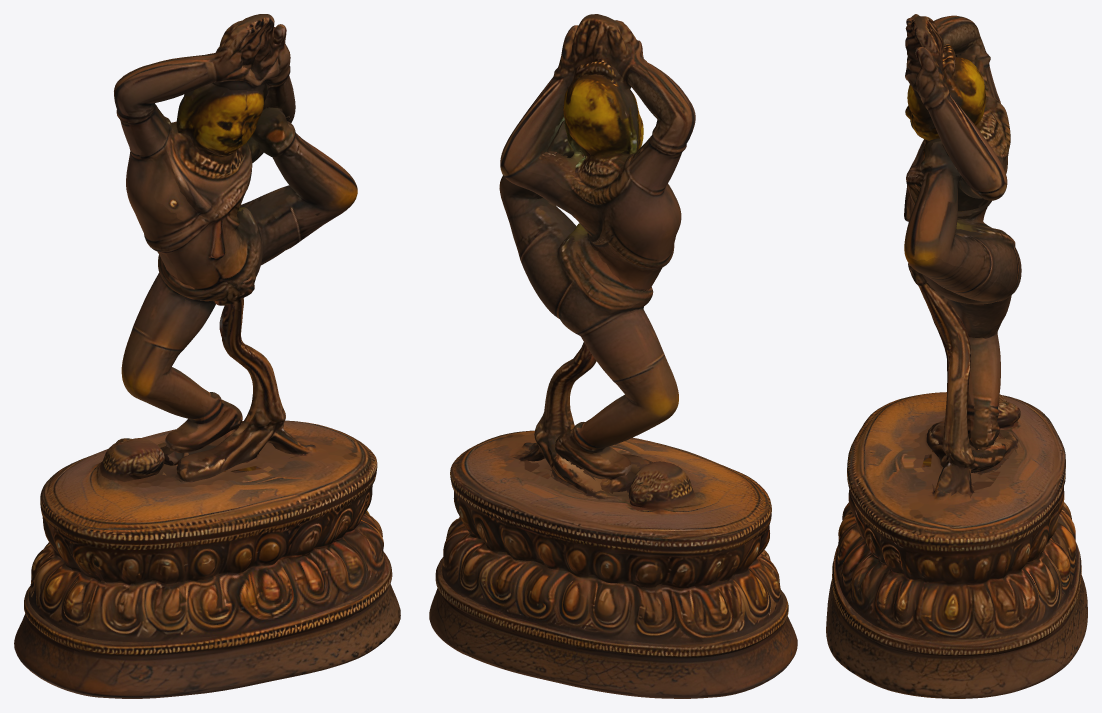
3 views of the same model, side by side, from view 1: azimuth 30°, elevation 25°; view 2: azimuth 150°, elevation 25°; view 3: azimuth 270°, elevation 25° (orthographic). The views are drawn at different scales.
Parts seen in each view (by area): view 1: textured_mesh; view 2: textured_mesh; view 3: textured_mesh.
Boxes of the visible parts, left/top/right/bottom form: textured_mesh: left=14, top=14, right=400, bottom=698; textured_mesh: left=429, top=14, right=797, bottom=698; textured_mesh: left=826, top=14, right=1087, bottom=698.
Bounding box in the file's own units: 1.16 × 1.99 × 0.7715.
Materials: 1 (1 with a texture image).
